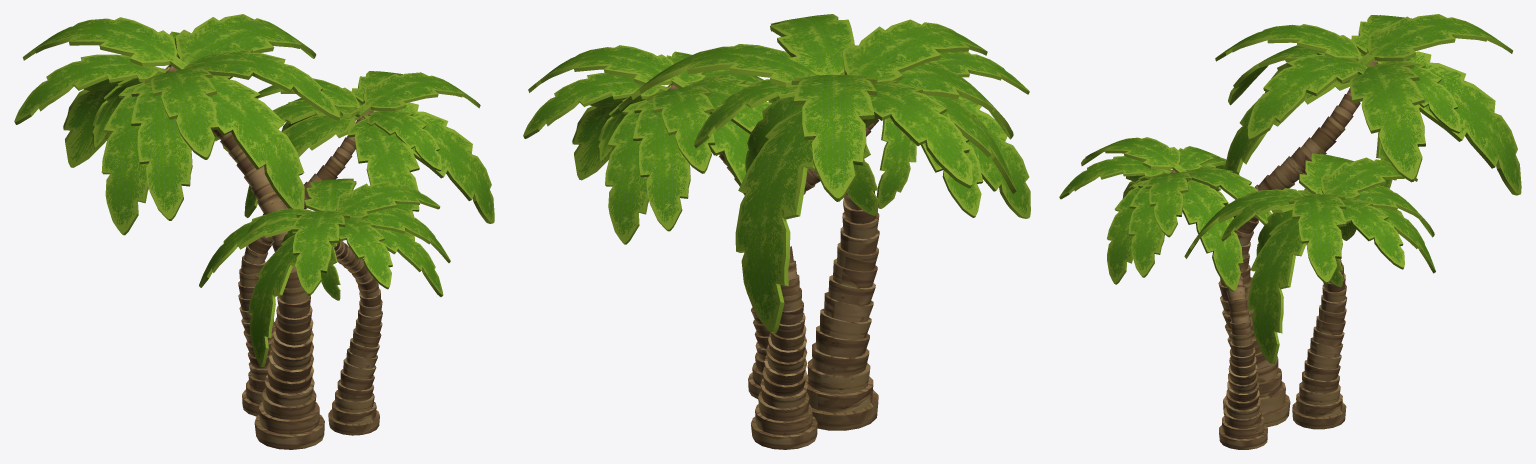
The model's file is stylized_palm_tree_1k_pbr.glb.
3 views of the same model, side by side, from view 1: azimuth 30°, elevation 25°; view 2: azimuth 150°, elevation 25°; view 3: azimuth 270°, elevation 25° (orthographic). The views are drawn at different scales.
Parts seen in each view (by area): view 1: tree_0; view 2: tree_0; view 3: tree_0.
Boxes of the visible parts, x1=… form: tree_0: x1=14, y1=14, x2=494, y2=449; tree_0: x1=523, y1=14, x2=1030, y2=449; tree_0: x1=1059, y1=14, x2=1521, y2=449.
Bounding box in the file's own units: 17.66 × 14.45 × 17.45.
Materials: 1 (1 with a texture image).
